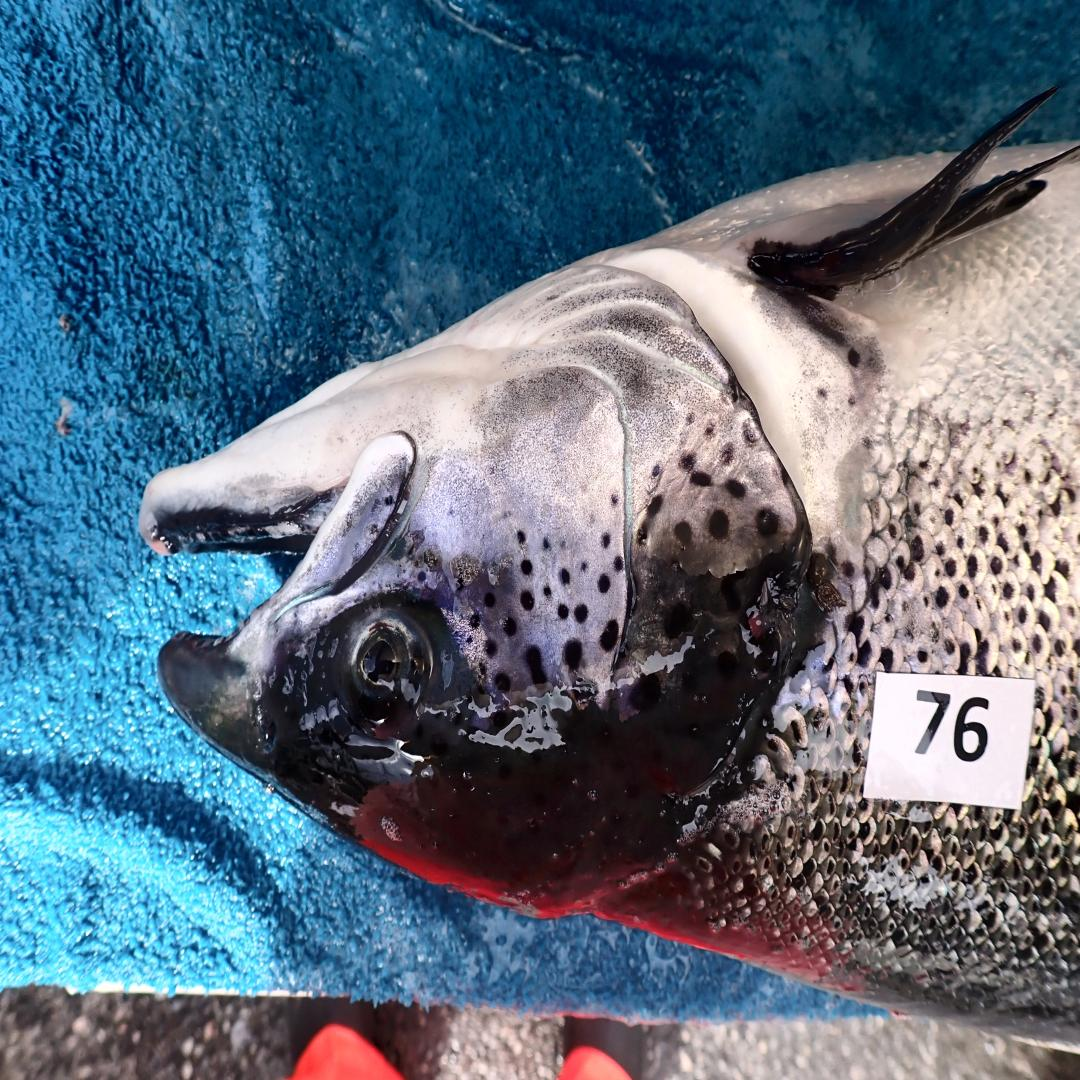spot: (629, 672, 662, 712), (664, 602, 690, 638), (525, 646, 546, 688), (709, 509, 730, 540), (757, 509, 779, 537), (599, 619, 618, 650), (563, 641, 582, 669), (674, 521, 693, 546), (689, 469, 712, 488), (725, 478, 745, 499), (647, 495, 663, 519), (741, 422, 757, 446), (677, 452, 696, 472), (493, 673, 511, 693), (719, 442, 734, 464), (574, 603, 588, 624), (520, 591, 534, 610), (503, 618, 517, 637), (636, 525, 649, 545), (597, 574, 610, 594), (485, 640, 497, 658), (468, 614, 480, 630), (521, 560, 532, 577), (484, 592, 495, 609), (704, 423, 715, 439), (613, 556, 624, 572), (560, 569, 570, 586), (557, 605, 569, 619), (651, 463, 661, 478), (685, 411, 695, 426), (601, 534, 611, 549), (542, 536, 551, 552), (517, 530, 526, 545), (478, 662, 487, 676), (543, 584, 552, 597), (418, 570, 427, 582), (611, 494, 618, 506), (580, 561, 588, 571), (466, 635, 472, 644)
